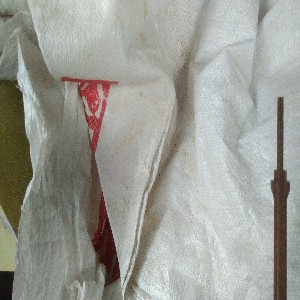obeng: (269, 95, 291, 300)
